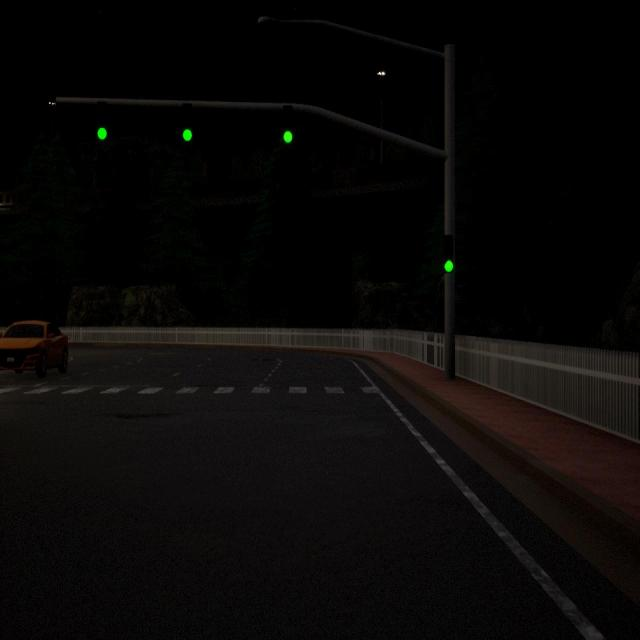Vehicle: (0, 320, 67, 372)
traffic_light: (442, 237, 453, 273), (97, 101, 107, 139), (183, 102, 192, 141), (284, 107, 292, 143)
